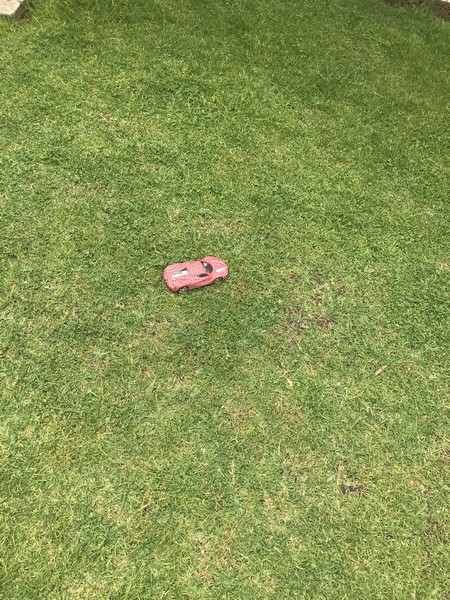RC: (163, 256, 229, 293)
